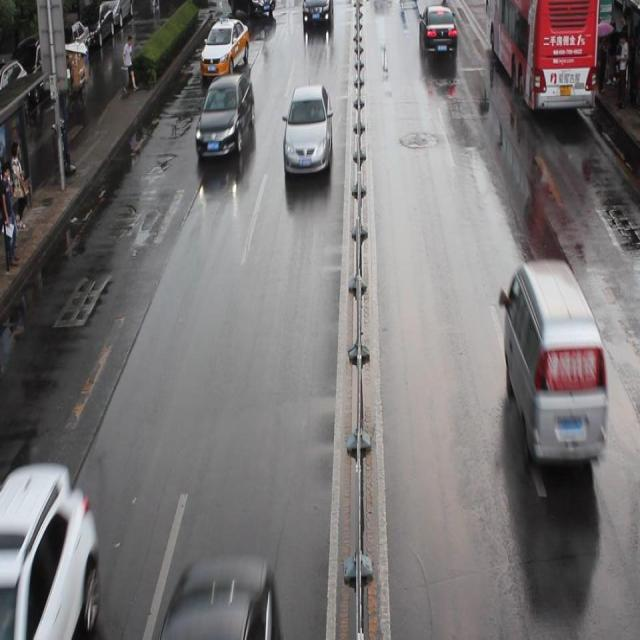car: (1, 461, 99, 640), (195, 76, 255, 160), (281, 84, 332, 176), (200, 18, 250, 74), (416, 1, 457, 59), (302, 1, 333, 30), (228, 1, 275, 14)
truck: (497, 256, 608, 459)
van: (483, 2, 598, 112)
